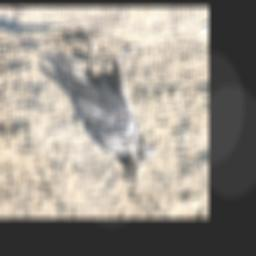Crow: (35, 31, 161, 174)
